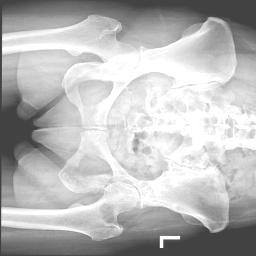cancer: (58, 169, 154, 206)
